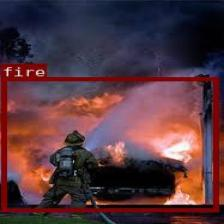fire: (0, 77, 217, 211)
